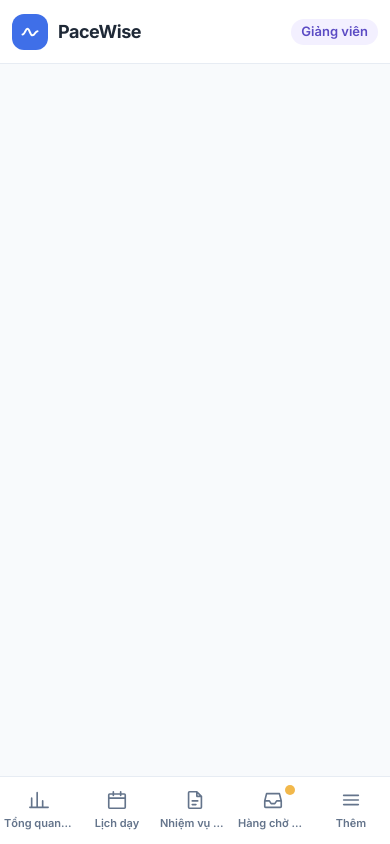
Test: keeps all instructor destinations and the mobile More menu when using an icon rail
Expected: the button "Quay lại LMS" is not shown
Step 1. Click the button "Thêm" → (351, 810), box [312,777,389,843]
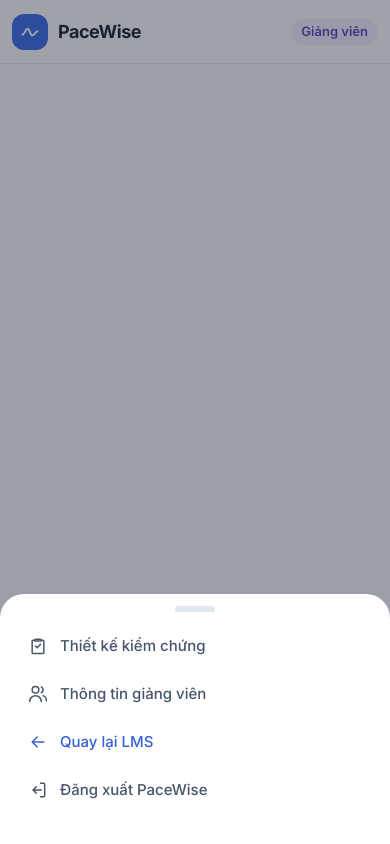
Expected: the link "Thiết kế kiểm chứng" is shown, [28,636,206,656]
Expected: the link "Thông tin giảng viên" is shown, [28,684,206,704]
Expected: the button "Đăng xuất PaceWise" is shown, [16,768,374,812]
